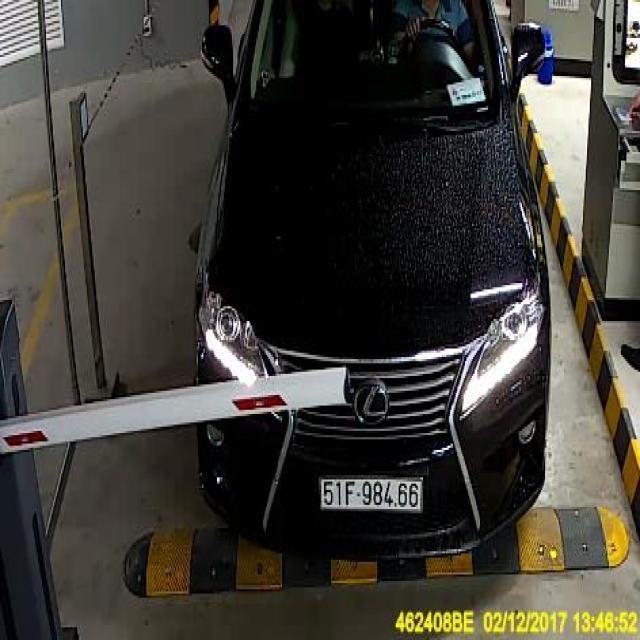bien_so_oto: (322, 479, 421, 512)
